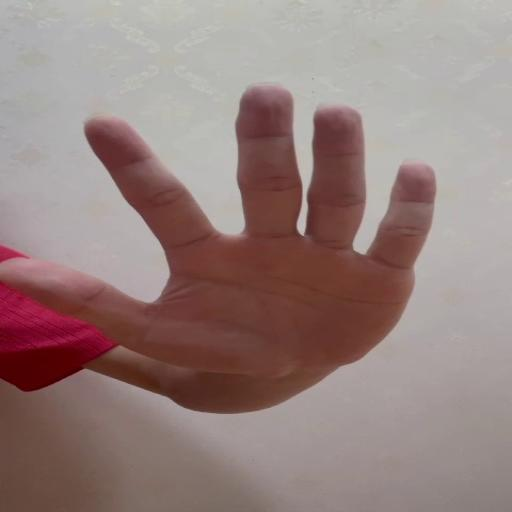open_palm: (2, 83, 438, 375)
